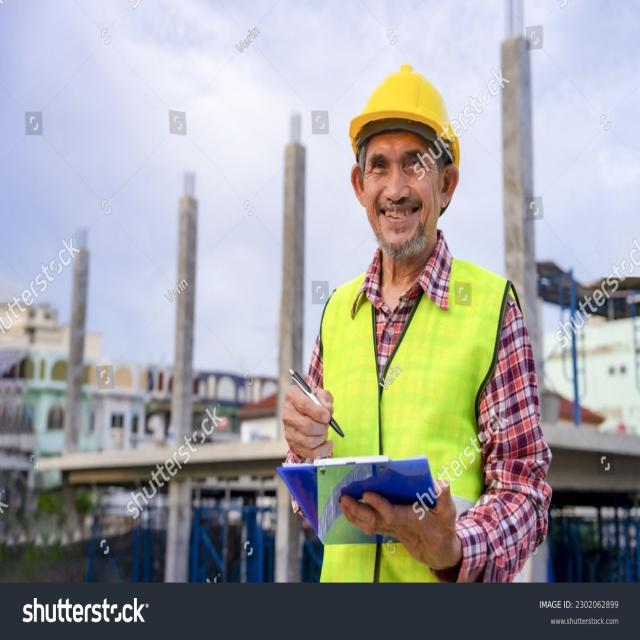helmet: (345, 59, 464, 177)
no-goggles: (360, 147, 438, 186)
vest: (308, 254, 524, 583)
